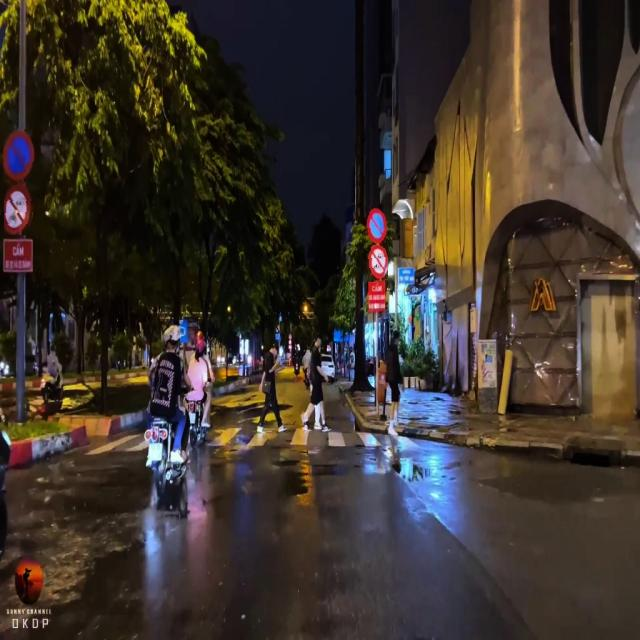cam_cac_loai_xe_3_banh: (364, 245, 388, 282)
cam_do_xe: (3, 129, 38, 183), (366, 205, 388, 245)
cam_xe_2_banh_va_xe_3_banh_co_dong_co: (4, 184, 35, 235)
